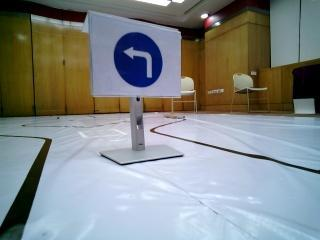left: (89, 11, 178, 95)
